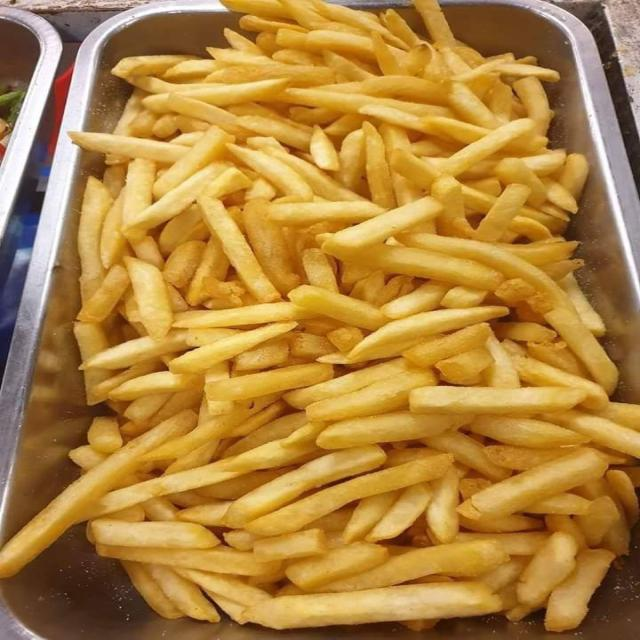potato fries: (0, 0, 639, 630)
